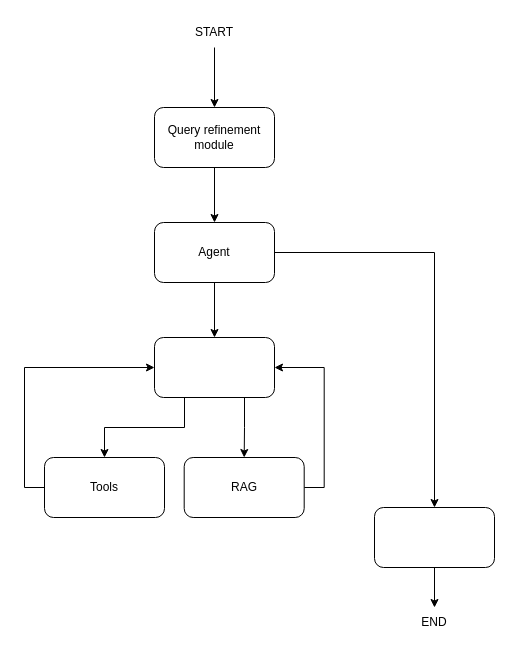
Some shapes in this 512 by 654 pixel diagram are drawn without their labels. The shapes that lost their labels are listed below. From the top down, each one's centre as x and y in pixels, then its label:
At pixel 214 367: "Select next task".
At pixel 434 537: "Summarize".
